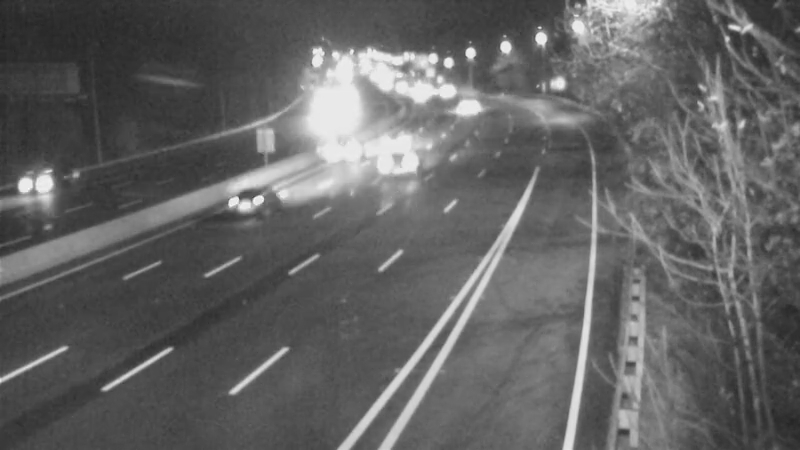vehicle: (361, 127, 441, 207), (298, 113, 378, 193), (208, 162, 288, 242), (1, 149, 76, 229), (437, 82, 487, 132), (371, 117, 421, 167)
